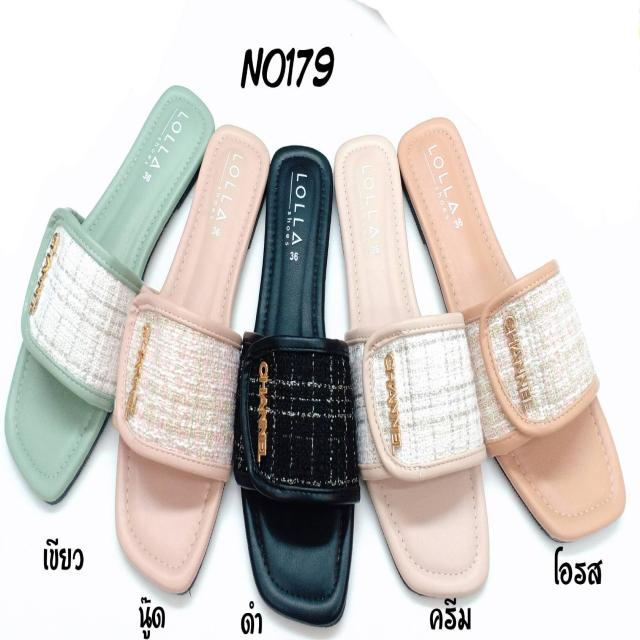black: (235, 128, 355, 637)
cream: (338, 111, 486, 626)
green: (8, 50, 210, 512)
nood: (108, 69, 263, 598)
orot: (395, 120, 634, 550)
